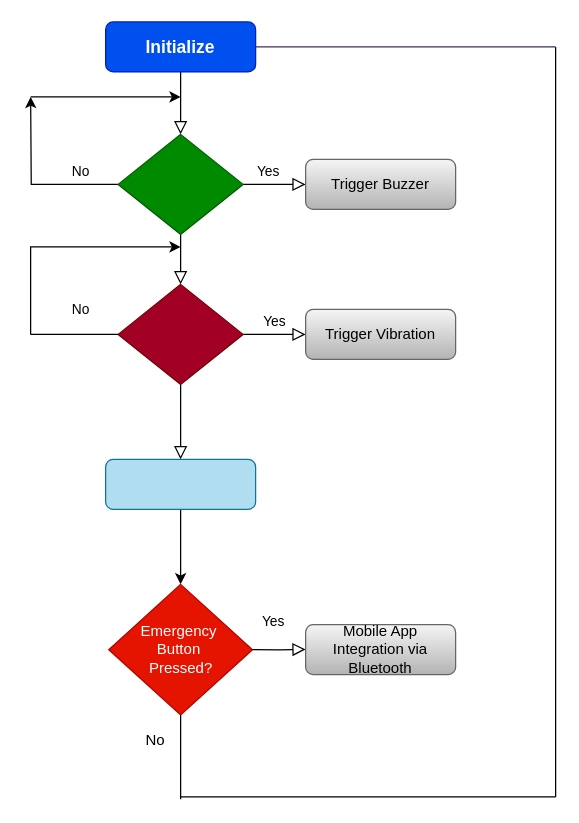
This 579x823 diagram has some shape labels left out. The box of each missing label's shape, as (x1, y1, x2, y2) in pixels:
GPS Monitoring: (104, 458, 256, 509)
Is Fire Detected?: (117, 283, 243, 384)
Obstacle Detected?: (117, 133, 243, 234)
